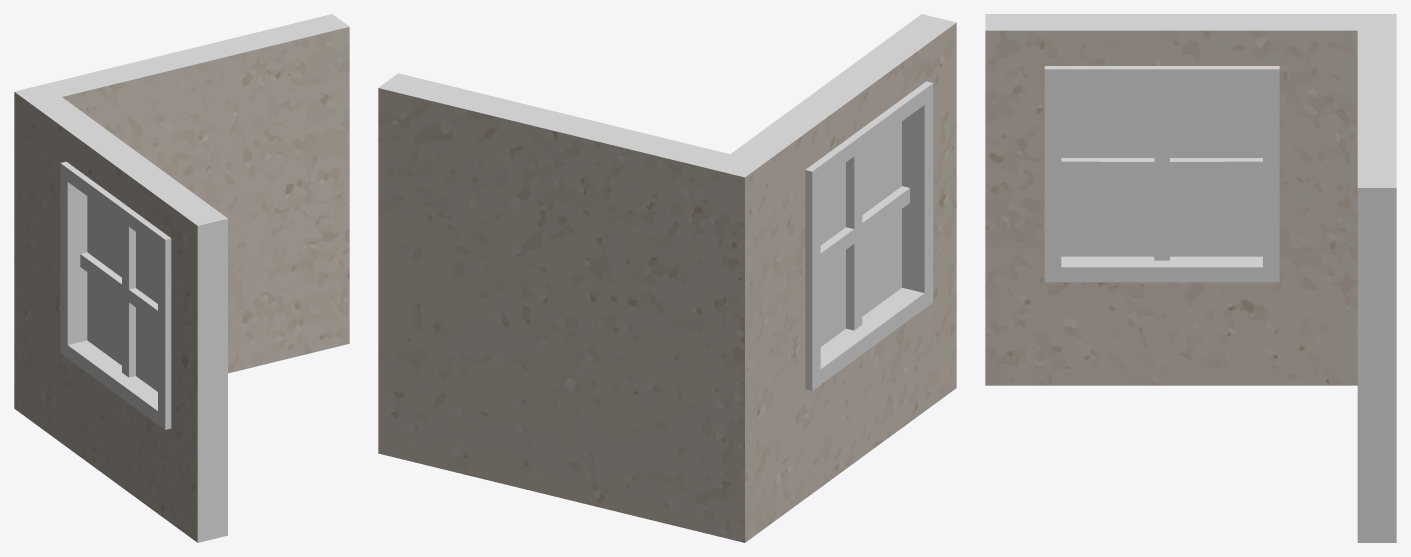
The model's file is wall_corner_left_window.fbx.
3 views of the same model, side by side, from view 1: azimuth 30°, elevation 25°; view 2: azimuth 150°, elevation 25°; view 3: azimuth 270°, elevation 25° (orthographic). The views are drawn at different scales.
Visible parts, largest first — view 1: wall_corner_left_window; view 2: wall_corner_left_window; view 3: wall_corner_left_window.
Part boxes in pixels (x1,y1,x2,y2): wall_corner_left_window: [14, 14, 349, 542]; wall_corner_left_window: [378, 14, 956, 542]; wall_corner_left_window: [985, 14, 1396, 542].
Size of the model in its own units: 107 by 100 by 105.
